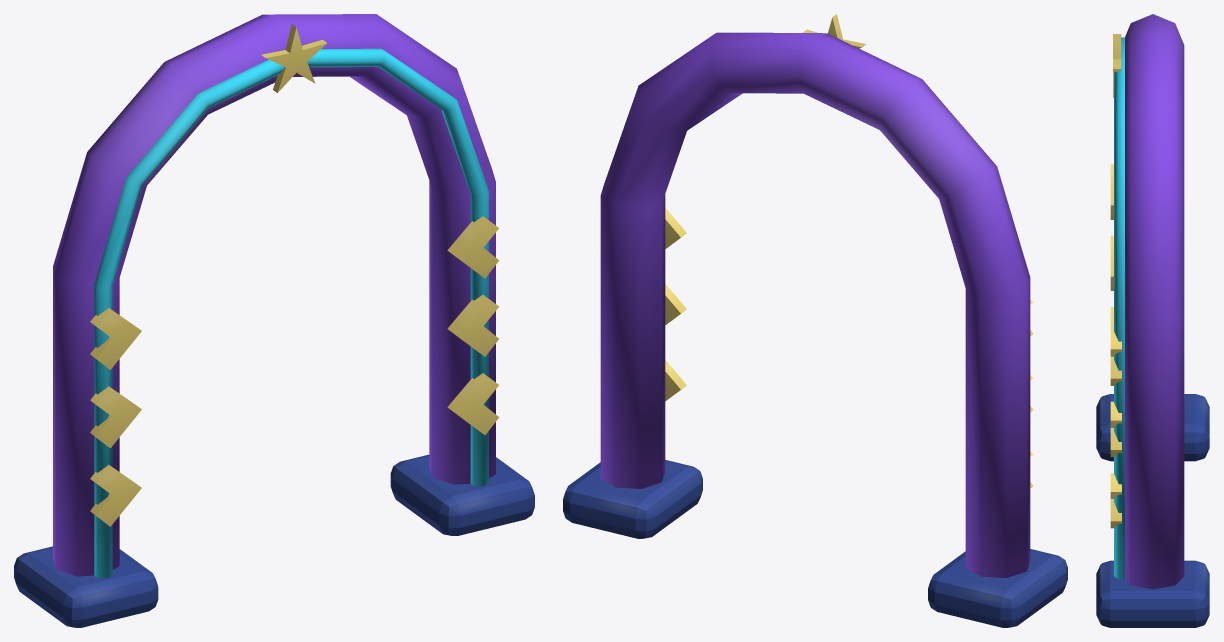
The model's file is PortalGate.fbx.
3 renders of one model, left to right at view 1: azimuth 30°, elevation 25°; view 2: azimuth 150°, elevation 25°; view 3: azimuth 270°, elevation 25°, orthographic. The views are drawn at different scales.
Visible parts, largest first — view 1: PortalGate; view 2: PortalGate; view 3: PortalGate.
Boxes of the visible parts, left/top/right/bottom form: PortalGate: left=14, top=14, right=534, bottom=627; PortalGate: left=563, top=14, right=1067, bottom=627; PortalGate: left=1096, top=14, right=1209, bottom=627.
Size of the model in its own units: 5.65 by 6.26 by 1.3.
Materials: 1 (1 with a texture image).
